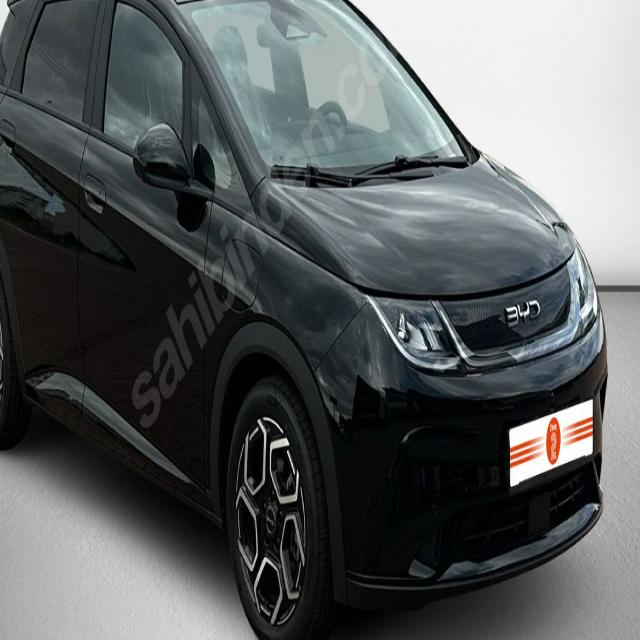byd: (494, 292, 549, 330)
